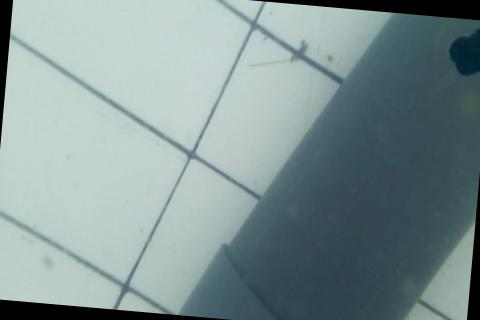kebocoran: (445, 20, 480, 79)
